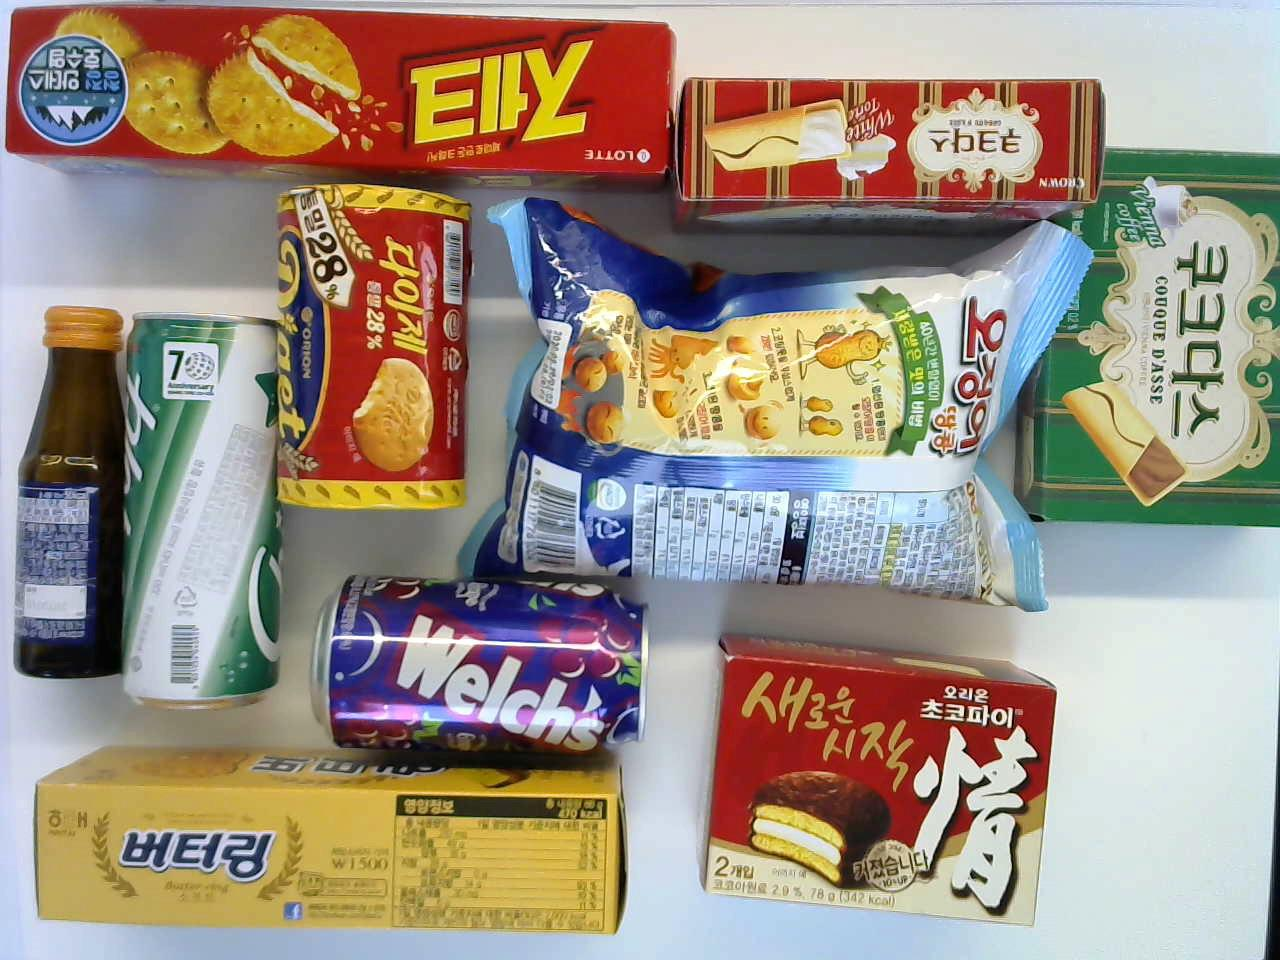buttering: (29, 742, 617, 931)
chocopie: (689, 634, 1045, 927)
cidar: (116, 313, 285, 709)
couque_coffee: (1008, 150, 1280, 525)
couque_white: (670, 74, 1109, 226)
diget_ori: (274, 185, 475, 509)
squid_peanut: (454, 220, 1097, 577)
vita500: (7, 302, 119, 682)
welchs: (312, 578, 648, 750)
zec: (0, 6, 676, 179), (689, 634, 1045, 927)
